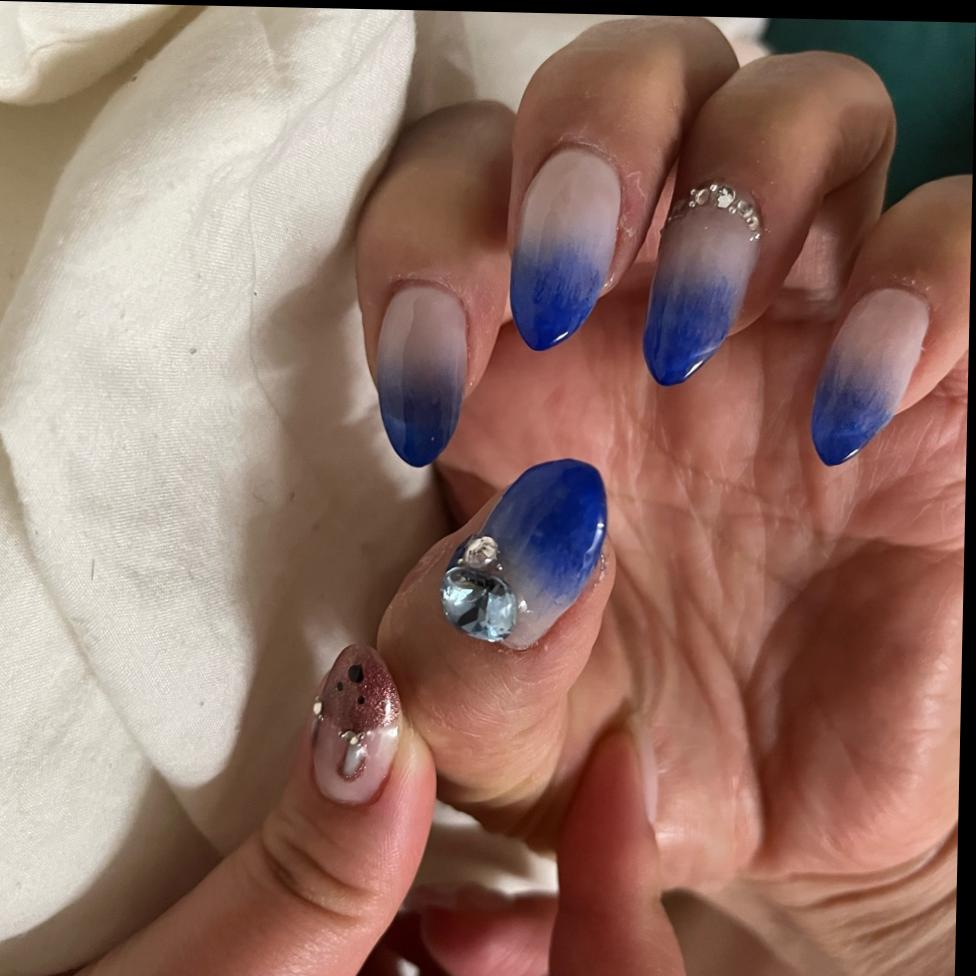nail: (439, 455, 612, 654), (642, 179, 766, 389), (508, 140, 626, 354), (809, 283, 933, 470), (373, 280, 473, 470), (309, 642, 407, 807)
